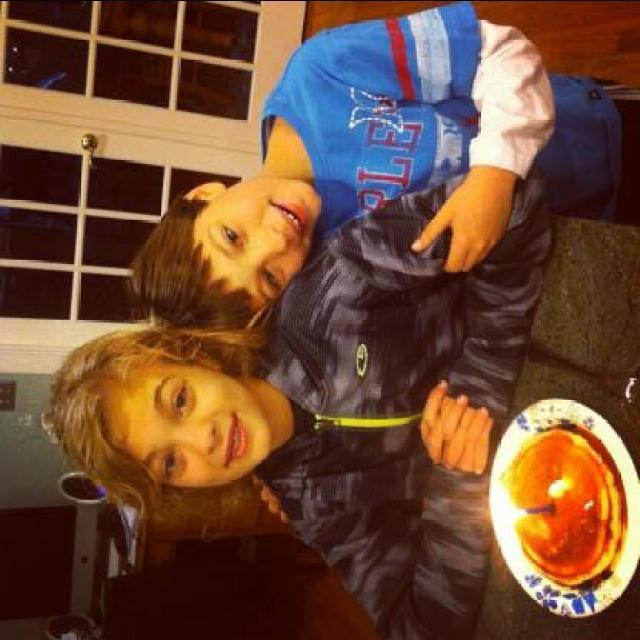Pancake: (505, 405, 629, 624)
